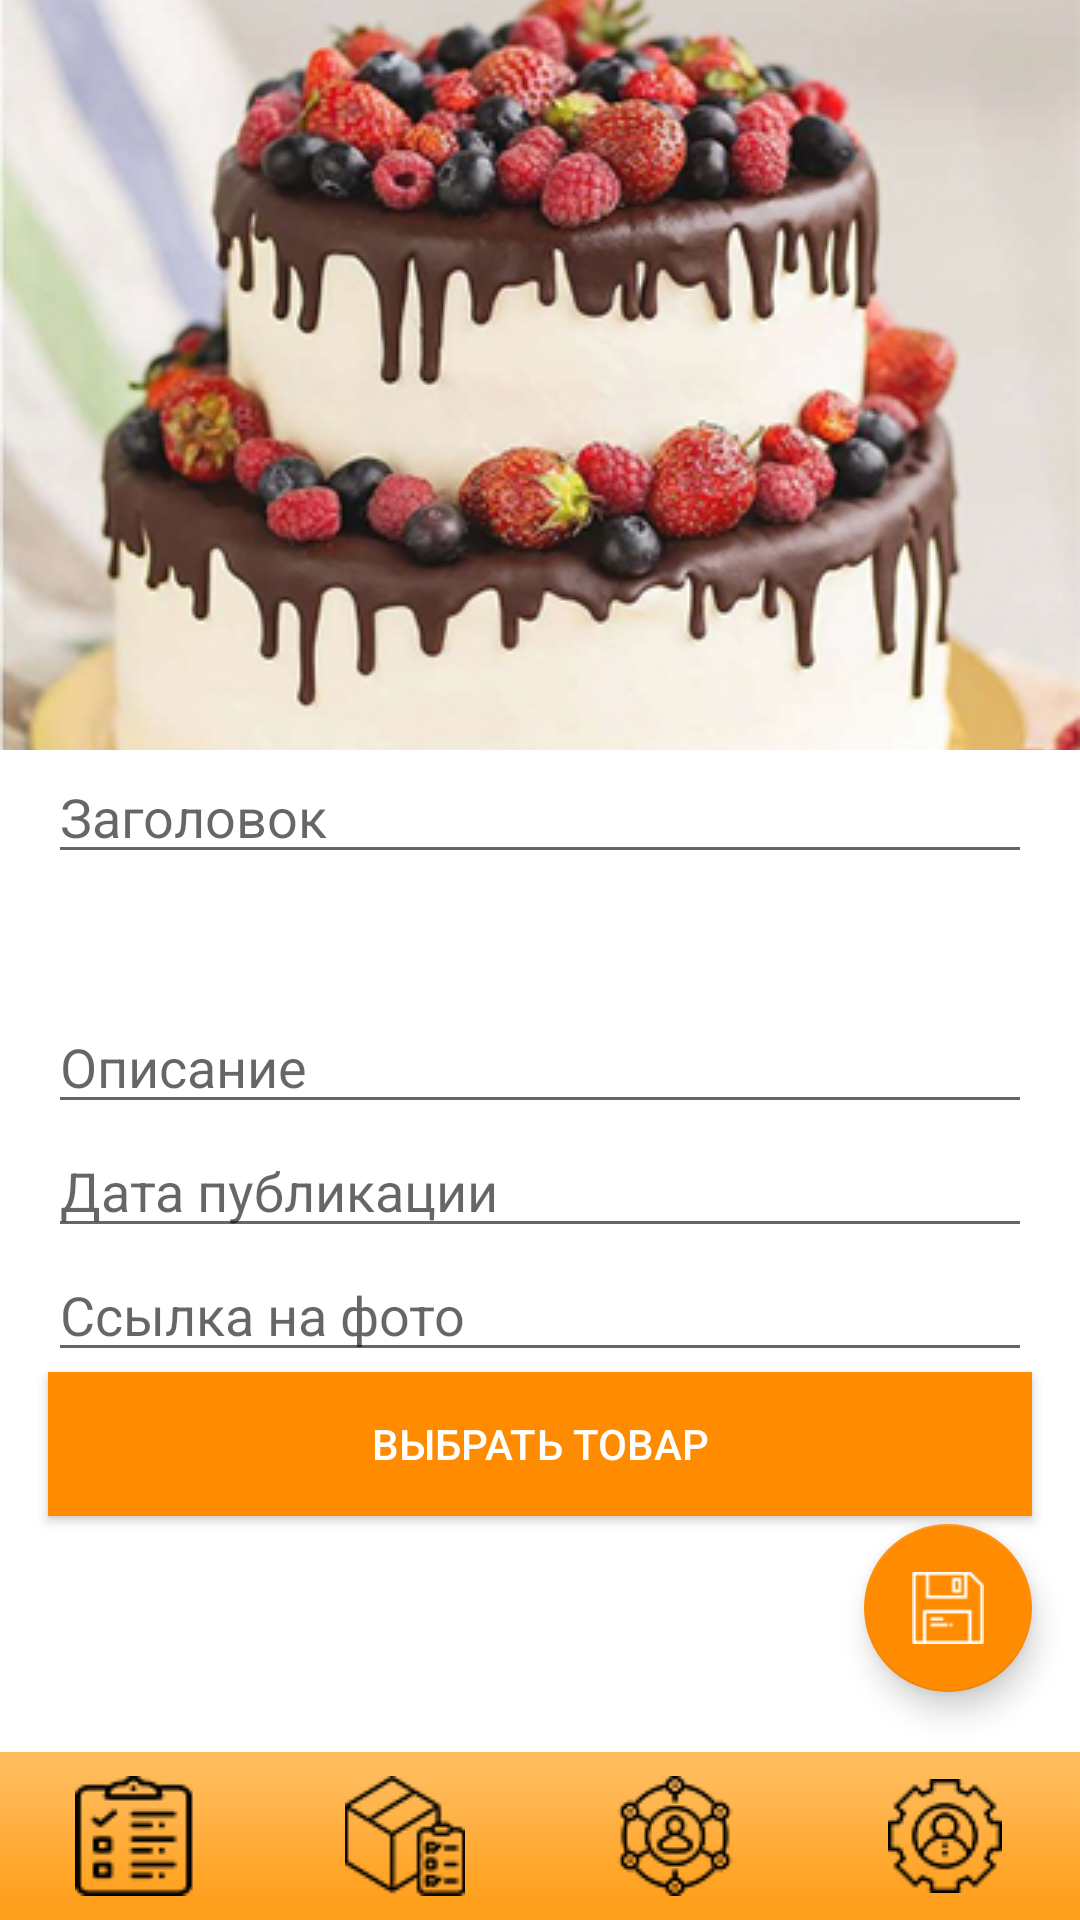

Screen size 1080px×1920px. Icon name, then its center in pixels as point (x, y):
box: point (405, 1836)
list: point (135, 1836)
profile: point (945, 1836)
save: point (948, 1608)
social: point (675, 1836)
